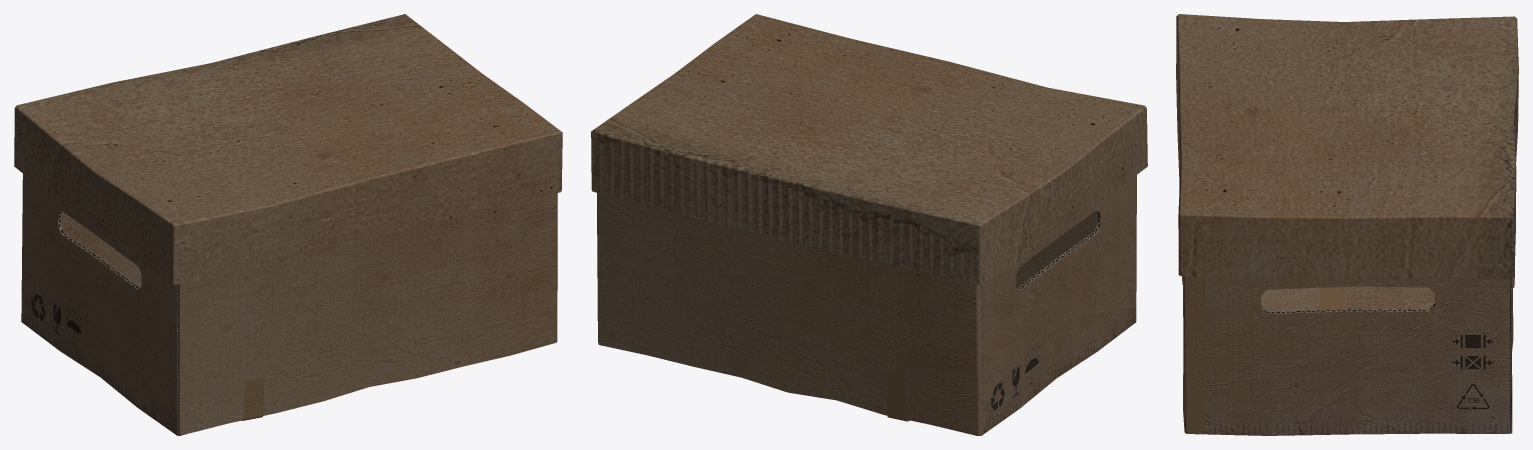
File: SM_CardboardE.FBX
3 views of the same model, side by side, from view 1: azimuth 30°, elevation 25°; view 2: azimuth 150°, elevation 25°; view 3: azimuth 270°, elevation 25° (orthographic). The views are drawn at different scales.
Visible parts, largest first — view 1: SM_CardboardE_LOD0; view 2: SM_CardboardE_LOD0; view 3: SM_CardboardE_LOD0.
Part boxes in pixels (left/top/right/bottom): SM_CardboardE_LOD0: left=14, top=14, right=562, bottom=435; SM_CardboardE_LOD0: left=591, top=14, right=1147, bottom=435; SM_CardboardE_LOD0: left=1176, top=14, right=1518, bottom=435.
Size of what is drawn, in the model's own units: 47.82 by 25.41 by 34.49.
